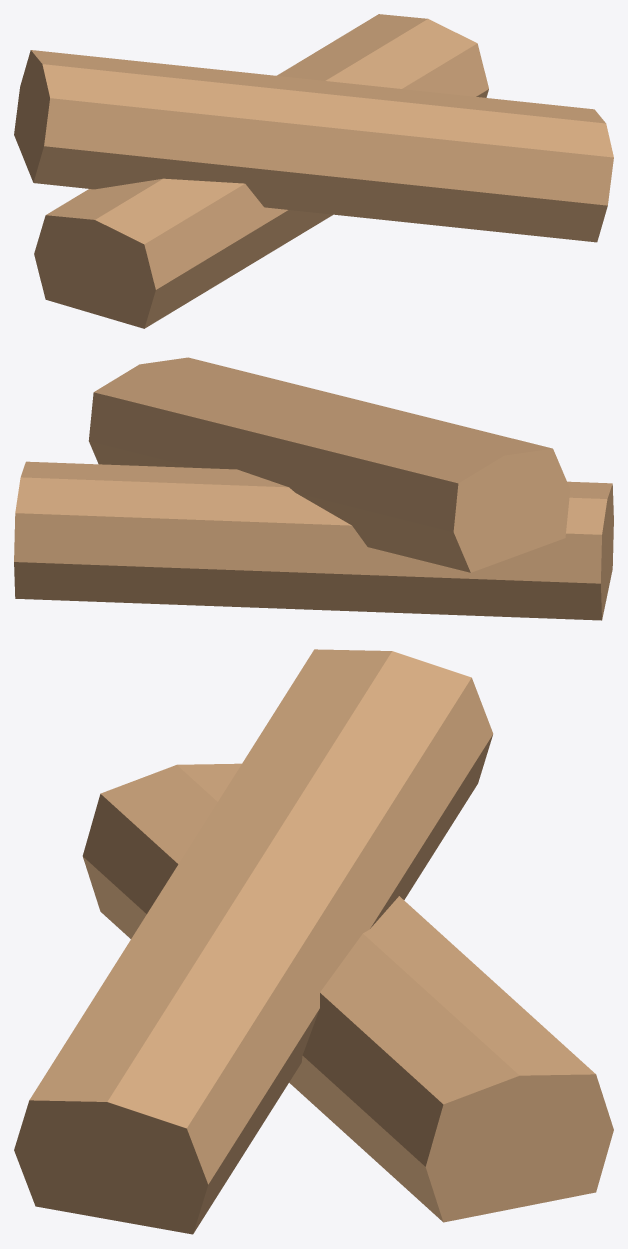
Rendered from s_logs.fbx.
3 renders of one model, top to bottom at view 1: azimuth 30°, elevation 25°; view 2: azimuth 150°, elevation 25°; view 3: azimuth 270°, elevation 25°, orthographic. The views are drawn at different scales.
Parts seen in each view (by area): view 1: logs; view 2: logs; view 3: logs.
Boxes of the visible parts, <box> form: logs: <box>14,14,613,328</box>; logs: <box>14,357,613,620</box>; logs: <box>14,649,613,1234</box>.
Bounding box in the file's own units: 0.4546 × 0.1566 × 0.3188.
